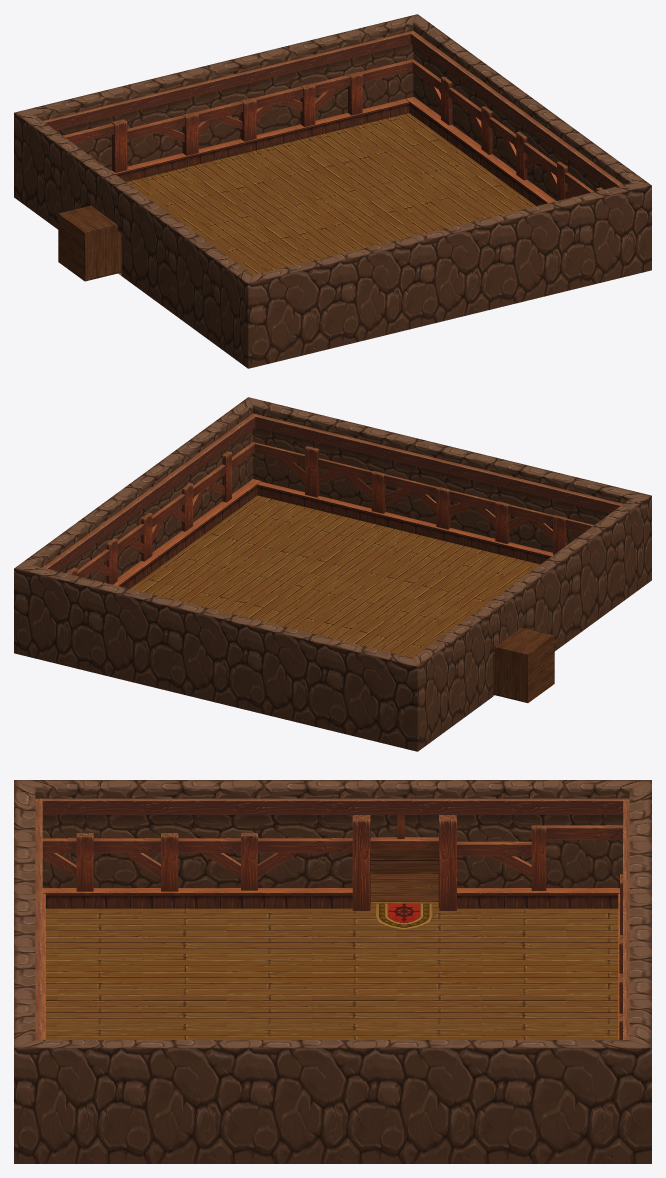
File: Pub01.FBX
The picture shows the model from 3 angles, top to bottom: view 1: azimuth 30°, elevation 25°; view 2: azimuth 150°, elevation 25°; view 3: azimuth 270°, elevation 25°; orthographic projection. The views are drawn at different scales.
Visible parts, largest first — view 1: qiangti_01; view 2: qiangti_01; view 3: qiangti_01.
Boxes of the visible parts, <box> form: qiangti_01: <box>14,14,651,368</box>; qiangti_01: <box>14,397,651,751</box>; qiangti_01: <box>14,780,651,1163</box>.
Size of the model in its own units: 1855 by 355 by 1723.
